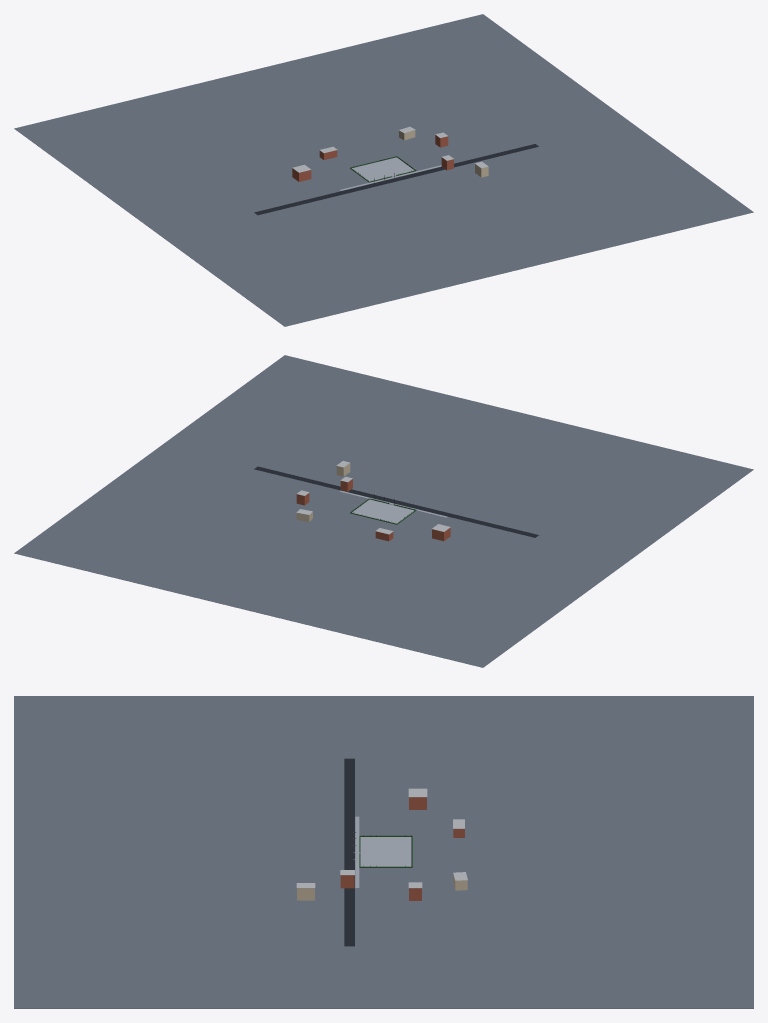
Rendered from utp-context.glb.
3 renders of one model, top to bottom at view 1: azimuth 30°, elevation 25°; view 2: azimuth 150°, elevation 25°; view 3: azimuth 270°, elevation 25°, orthographic. The views are drawn at different scales.
Visible parts, largest first — view 1: CONTEXT_GROUND, CONTEXT_ASPHALT, CONTEXT_SIDEWALK, CONTEXT_CONTEXT_BRICK; view 2: CONTEXT_GROUND, CONTEXT_ASPHALT, CONTEXT_SIDEWALK, CONTEXT_CONTEXT_BRICK; view 3: CONTEXT_GROUND, CONTEXT_SIDEWALK, CONTEXT_ASPHALT, CONTEXT_CONTEXT_ROOF, CONTEXT_CONTEXT_BRICK.
Part boxes in pixels (box(x1,y1,x2,y2)): CONTEXT_GROUND: box(14, 14, 753, 326); CONTEXT_ASPHALT: box(254, 144, 538, 215); CONTEXT_SIDEWALK: box(339, 157, 441, 190); CONTEXT_CONTEXT_BRICK: box(292, 135, 453, 181); CONTEXT_GROUND: box(14, 355, 753, 667); CONTEXT_ASPHALT: box(254, 466, 538, 537); CONTEXT_SIDEWALK: box(340, 490, 447, 523); CONTEXT_CONTEXT_BRICK: box(296, 479, 450, 541); CONTEXT_GROUND: box(14, 696, 753, 1008); CONTEXT_SIDEWALK: box(355, 816, 411, 887); CONTEXT_ASPHALT: box(344, 758, 354, 946); CONTEXT_CONTEXT_ROOF: box(296, 788, 467, 888); CONTEXT_CONTEXT_BRICK: box(340, 797, 464, 900).
Size of the model in its own units: 700 by 14.34 by 700.
